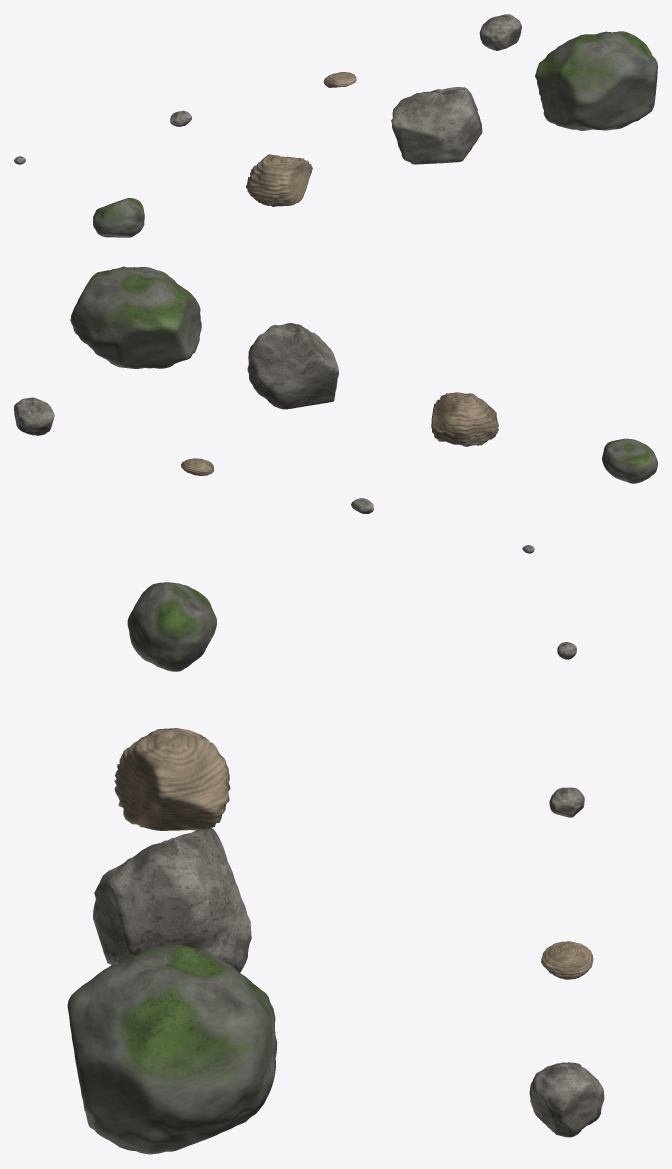
Rendered from PZ_Rock_Boulder_8_Shape_Catalog.glb.
The picture shows the model from 3 angles, top to bottom: view 1: azimuth 30°, elevation 25°; view 2: azimuth 150°, elevation 25°; view 3: azimuth 270°, elevation 25°; orthographic projection. The views are drawn at different scales.
Visible parts, largest first — view 1: RENDER_R08_Massive_Moss_Boulder_Moss, RENDER_R07_Fractured_Outcrop_Granite, RENDER_R06_Layered_Shale_Boulder_Sediment, RENDER_R05_Rounded_River_Boulder_Moss, RENDER_R04_Granite_Rock_Granite, RENDER_R03_Low_Sediment_Slab_Sediment; view 2: RENDER_R08_Massive_Moss_Boulder_Moss, RENDER_R07_Fractured_Outcrop_Granite, RENDER_R06_Layered_Shale_Boulder_Sediment, RENDER_R05_Rounded_River_Boulder_Moss, RENDER_R04_Granite_Rock_Granite, RENDER_R03_Low_Sediment_Slab_Sediment; view 3: RENDER_R08_Massive_Moss_Boulder_Moss, RENDER_R07_Fractured_Outcrop_Granite, RENDER_R06_Layered_Shale_Boulder_Sediment, RENDER_R05_Rounded_River_Boulder_Moss, RENDER_R04_Granite_Rock_Granite, RENDER_R03_Low_Sediment_Slab_Sediment, RENDER_R02_Angular_Fieldstone_Granite.
Boxes of the visible parts, x1,y1,x2,y2 form: RENDER_R08_Massive_Moss_Boulder_Moss: (535,31,657,130); RENDER_R07_Fractured_Outcrop_Granite: (391,87,482,164); RENDER_R06_Layered_Shale_Boulder_Sediment: (246,154,312,206); RENDER_R05_Rounded_River_Boulder_Moss: (93,198,144,237); RENDER_R04_Granite_Rock_Granite: (479,14,521,50); RENDER_R03_Low_Sediment_Slab_Sediment: (323,72,356,87); RENDER_R08_Massive_Moss_Boulder_Moss: (70,266,201,368); RENDER_R07_Fractured_Outcrop_Granite: (247,323,338,409); RENDER_R06_Layered_Shale_Boulder_Sediment: (431,392,498,446); RENDER_R05_Rounded_River_Boulder_Moss: (602,438,657,483); RENDER_R04_Granite_Rock_Granite: (14,397,54,435); RENDER_R03_Low_Sediment_Slab_Sediment: (181,458,214,475); RENDER_R08_Massive_Moss_Boulder_Moss: (67,944,277,1154); RENDER_R07_Fractured_Outcrop_Granite: (93,828,251,972); RENDER_R06_Layered_Shale_Boulder_Sediment: (114,728,230,830); RENDER_R05_Rounded_River_Boulder_Moss: (127,582,216,671); RENDER_R04_Granite_Rock_Granite: (529,1062,604,1137); RENDER_R03_Low_Sediment_Slab_Sediment: (541,941,593,979); RENDER_R02_Angular_Fieldstone_Granite: (549,787,584,817).
Bounding box in the file's own units: 15.68 × 2.16 × 6.53.
3 materials, 3 textured.
